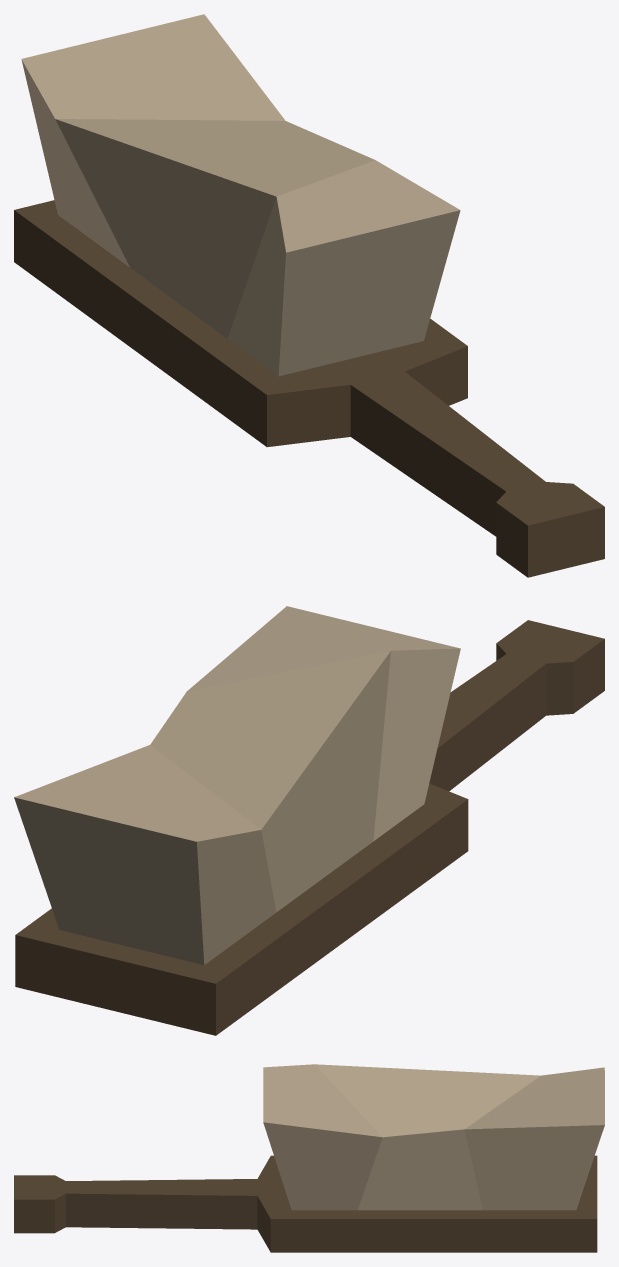
File: SM_Prop_Scrub_Brush_01.glb
The picture shows the model from 3 angles, top to bottom: view 1: azimuth 30°, elevation 25°; view 2: azimuth 150°, elevation 25°; view 3: azimuth 270°, elevation 25°; orthographic projection. The views are drawn at different scales.
Parts seen in each view (by area): view 1: SM_Prop_Scrub_Brush_01; view 2: SM_Prop_Scrub_Brush_01; view 3: SM_Prop_Scrub_Brush_01.
Boxes of the visible parts, bbox=[...] form: SM_Prop_Scrub_Brush_01: bbox=[14, 14, 604, 577]; SM_Prop_Scrub_Brush_01: bbox=[14, 606, 604, 1035]; SM_Prop_Scrub_Brush_01: bbox=[14, 1064, 604, 1252].
Bounding box in the file's own units: 0.00176 × 0.00178 × 0.00686.
